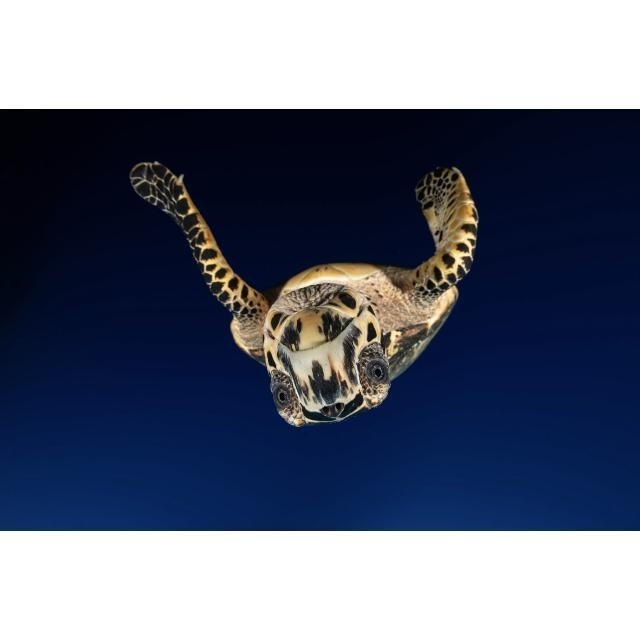turtle: (131, 159, 478, 426)
